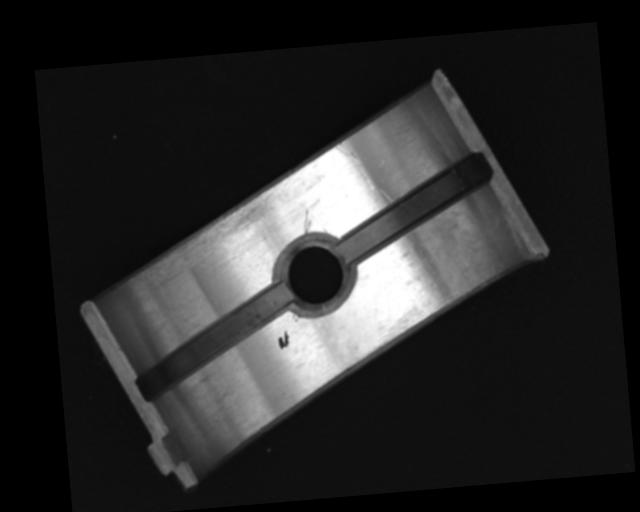blot: (277, 330, 290, 350)
gap: (128, 284, 297, 402), (334, 154, 498, 263)
hole: (271, 231, 358, 318)
nick: (334, 140, 376, 195), (302, 209, 312, 233)
scratch: (125, 188, 281, 283)
